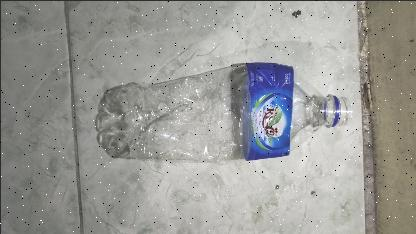Plastic Bottle: (94, 61, 352, 163)
